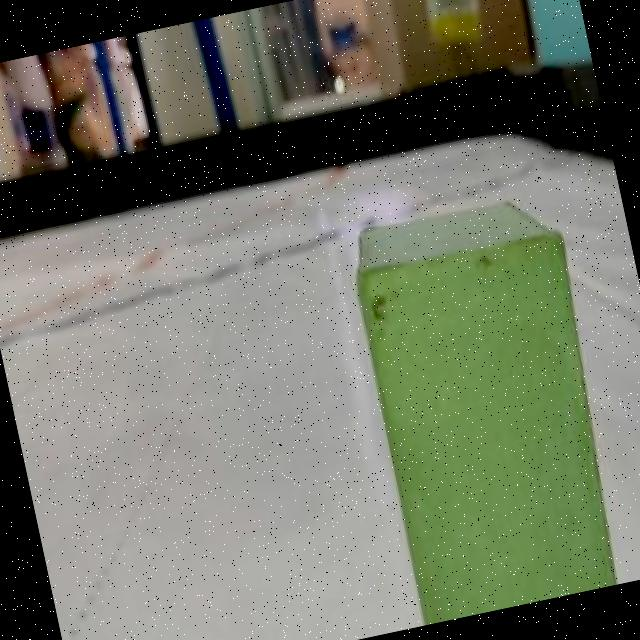greenbox: (336, 178, 638, 626)
